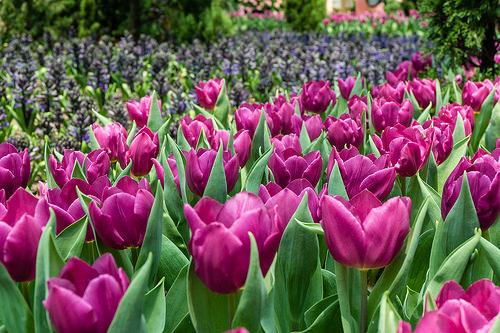tulip: (188, 191, 276, 288), (321, 186, 413, 268), (48, 254, 132, 333), (439, 145, 500, 244), (402, 272, 500, 333), (0, 187, 55, 282), (88, 180, 155, 247), (256, 180, 331, 232), (335, 147, 394, 205), (186, 145, 242, 196), (381, 121, 431, 178), (48, 179, 93, 235), (269, 149, 324, 185), (441, 97, 483, 142), (0, 139, 37, 188), (49, 144, 86, 190), (127, 130, 164, 175), (298, 78, 337, 113), (326, 113, 366, 146), (464, 76, 500, 111), (127, 93, 165, 126), (192, 75, 230, 108), (84, 145, 112, 183), (235, 98, 266, 131), (297, 111, 327, 141)
